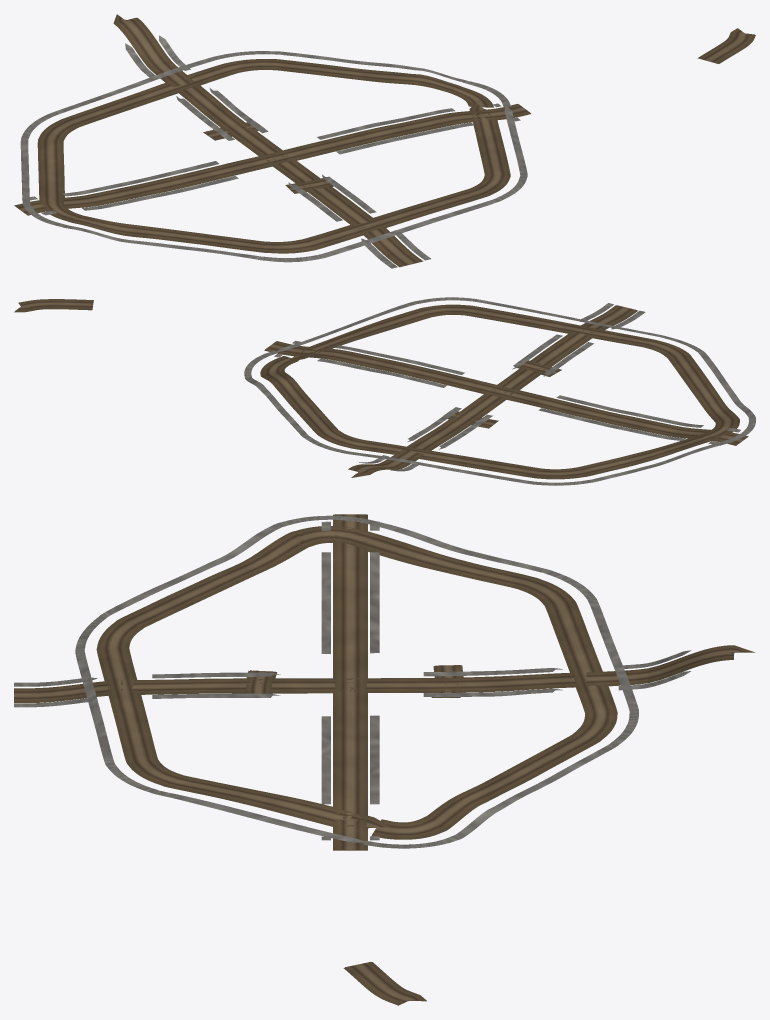
Rendered from Roads_P1.fbx.
The picture shows the model from 3 angles, top to bottom: view 1: azimuth 30°, elevation 25°; view 2: azimuth 150°, elevation 25°; view 3: azimuth 270°, elevation 25°; orthographic projection. The views are drawn at different scales.
Parts seen in each view (by area): view 1: Road.Ring, Road.Y, Road.X, Walk.Ring, Road.Ring.shoulder, Road.X.shoulder, Road.Y.shoulder, Road.Port, Walk.XWI, Walk.XWI.001, Walk.XEI, Walk.XEI.001; view 2: Road.Ring, Road.X, Walk.Ring, Road.Y, Road.Ring.shoulder, Road.X.shoulder, Road.Port, Road.Y.shoulder, Walk.XWI.001, Walk.XWI, Walk.XEI, Walk.XEI.001; view 3: Road.Ring, Road.X, Walk.Ring, Road.Y, Road.Ring.shoulder, Road.Y.shoulder, Road.Port, Road.X.shoulder, Walk.XWI.001, Walk.XWI, Walk.XEI, Walk.XEI.001.
Part boxes in pixels (left/top/right/bottom): Road.Ring: left=39, top=59, right=509, bottom=252; Road.Y: left=114, top=14, right=421, bottom=266; Road.X: left=15, top=104, right=530, bottom=214; Walk.Ring: left=20, top=51, right=527, bottom=262; Road.Ring.shoulder: left=37, top=59, right=510, bottom=253; Road.X.shoulder: left=14, top=104, right=530, bottom=215; Road.Y.shoulder: left=113, top=14, right=423, bottom=267; Road.Port: left=698, top=28, right=754, bottom=63; Walk.XWI: left=62, top=161, right=219, bottom=196; Walk.XWI.001: left=82, top=176, right=238, bottom=210; Walk.XEI: left=317, top=108, right=454, bottom=139; Walk.XEI.001: left=336, top=122, right=474, bottom=154; Road.Ring: left=261, top=304, right=738, bottom=478; Road.X: left=265, top=341, right=747, bottom=444; Walk.Ring: left=244, top=297, right=755, bottom=485; Road.Y: left=349, top=305, right=636, bottom=477; Road.Ring.shoulder: left=260, top=304, right=739, bottom=479; Road.X.shoulder: left=264, top=341, right=748, bottom=445; Road.Port: left=15, top=299, right=93, bottom=311; Road.Y.shoulder: left=348, top=305, right=637, bottom=477; Walk.XWI.001: left=556, top=395, right=703, bottom=427; Walk.XWI: left=538, top=408, right=685, bottom=440; Walk.XEI: left=317, top=358, right=446, bottom=387; Walk.XEI.001: left=335, top=345, right=464, bottom=374; Road.Ring: left=98, top=526, right=615, bottom=838; Road.X: left=334, top=514, right=366, bottom=849; Walk.Ring: left=75, top=515, right=638, bottom=848; Road.Y: left=14, top=645, right=752, bottom=701; Road.Ring.shoulder: left=96, top=526, right=617, bottom=839; Road.Y.shoulder: left=14, top=645, right=755, bottom=702; Road.Port: left=345, top=962, right=425, bottom=1004; Road.X.shoulder: left=333, top=514, right=367, bottom=850; Walk.XWI.001: left=321, top=552, right=330, bottom=653; Walk.XWI: left=370, top=552, right=379, bottom=653; Walk.XEI: left=370, top=715, right=379, bottom=804; Walk.XEI.001: left=321, top=716, right=330, bottom=804.
Bounding box in the file's own units: 29940 × 1457 × 20279.
